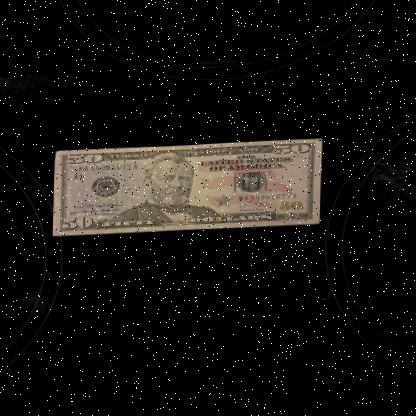fifty-front: (53, 139, 323, 238)
